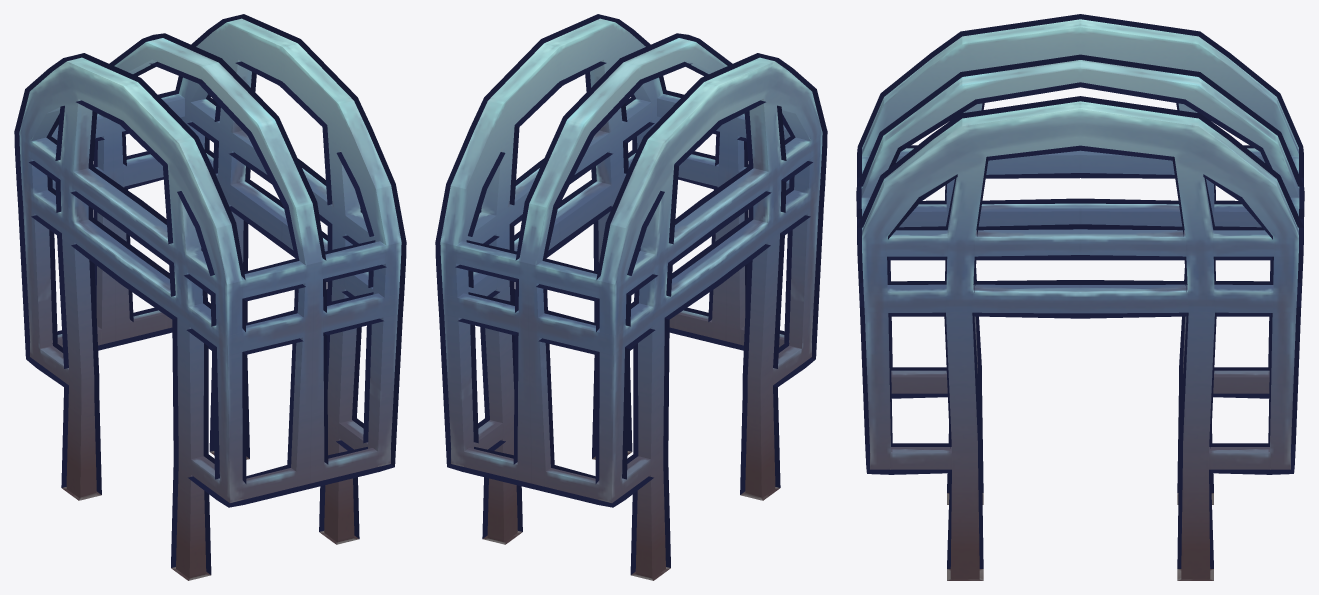
The model's file is Door.gltf.
3 views of the same model, side by side, from view 1: azimuth 30°, elevation 25°; view 2: azimuth 150°, elevation 25°; view 3: azimuth 270°, elevation 25° (orthographic). The views are drawn at different scales.
Visible parts, largest first — view 1: Cube.005_TT_checker_1_0, Cube.005_Line art_0; view 2: Cube.005_TT_checker_1_0, Cube.005_Line art_0; view 3: Cube.005_TT_checker_1_0, Cube.005_Line art_0.
Part boxes in pixels (x1,y1,x2,y2): Cube.005_TT_checker_1_0: [19, 18, 401, 580]; Cube.005_Line art_0: [14, 14, 406, 574]; Cube.005_TT_checker_1_0: [440, 18, 822, 580]; Cube.005_Line art_0: [435, 14, 827, 574]; Cube.005_TT_checker_1_0: [861, 19, 1299, 580]; Cube.005_Line art_0: [856, 14, 1304, 568].
Bounding box in the file's own units: 1.52 × 3.59 × 3.05.
Materials: 2 (1 with a texture image).
